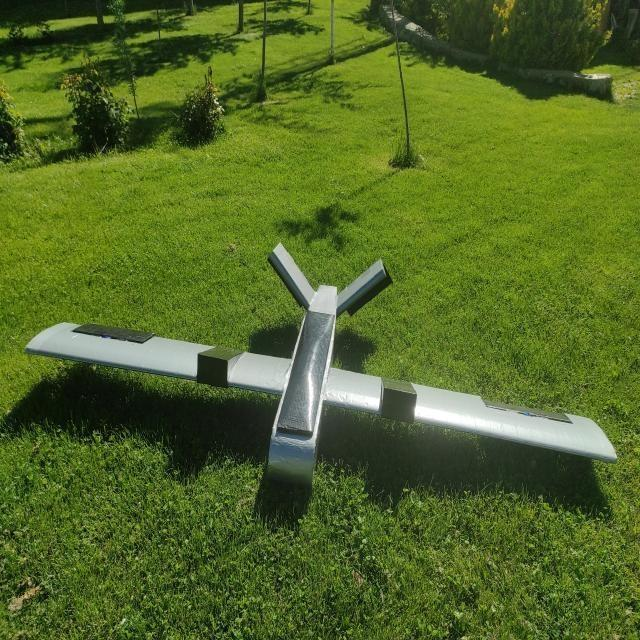Airplane: (20, 239, 624, 480)
